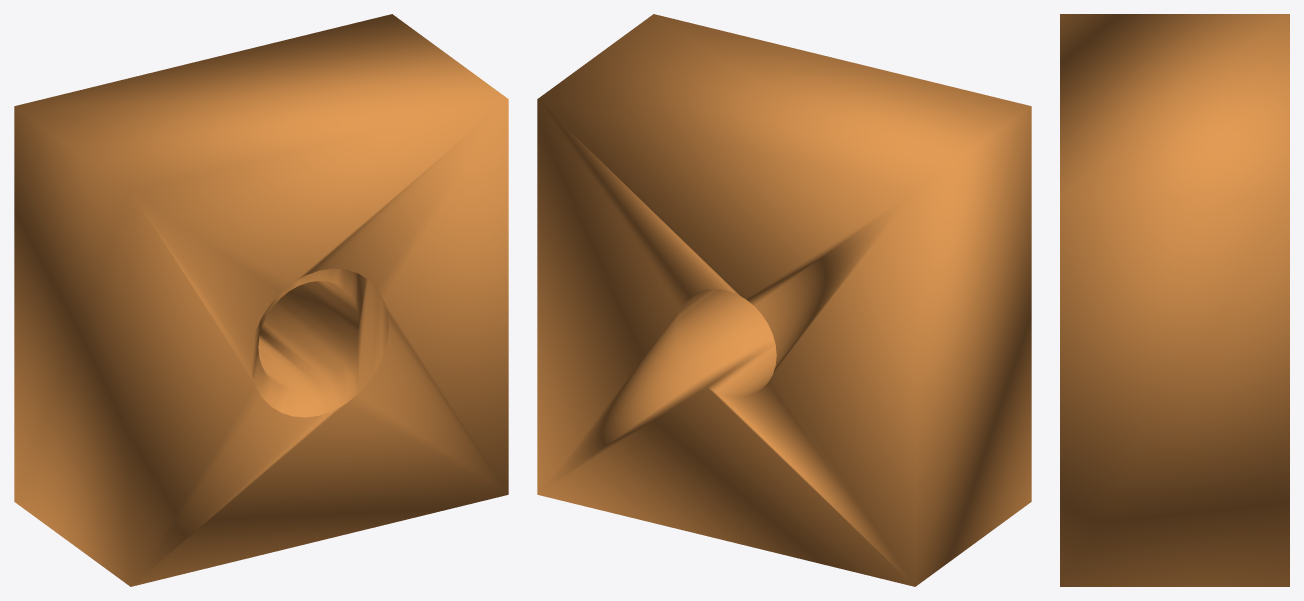
The model's file is expected.gltf.
The picture shows the model from 3 angles, left to right: view 1: azimuth 30°, elevation 25°; view 2: azimuth 150°, elevation 25°; view 3: azimuth 270°, elevation 25°; orthographic projection.
Size of the model in its own units: 30 by 30 by 16.
